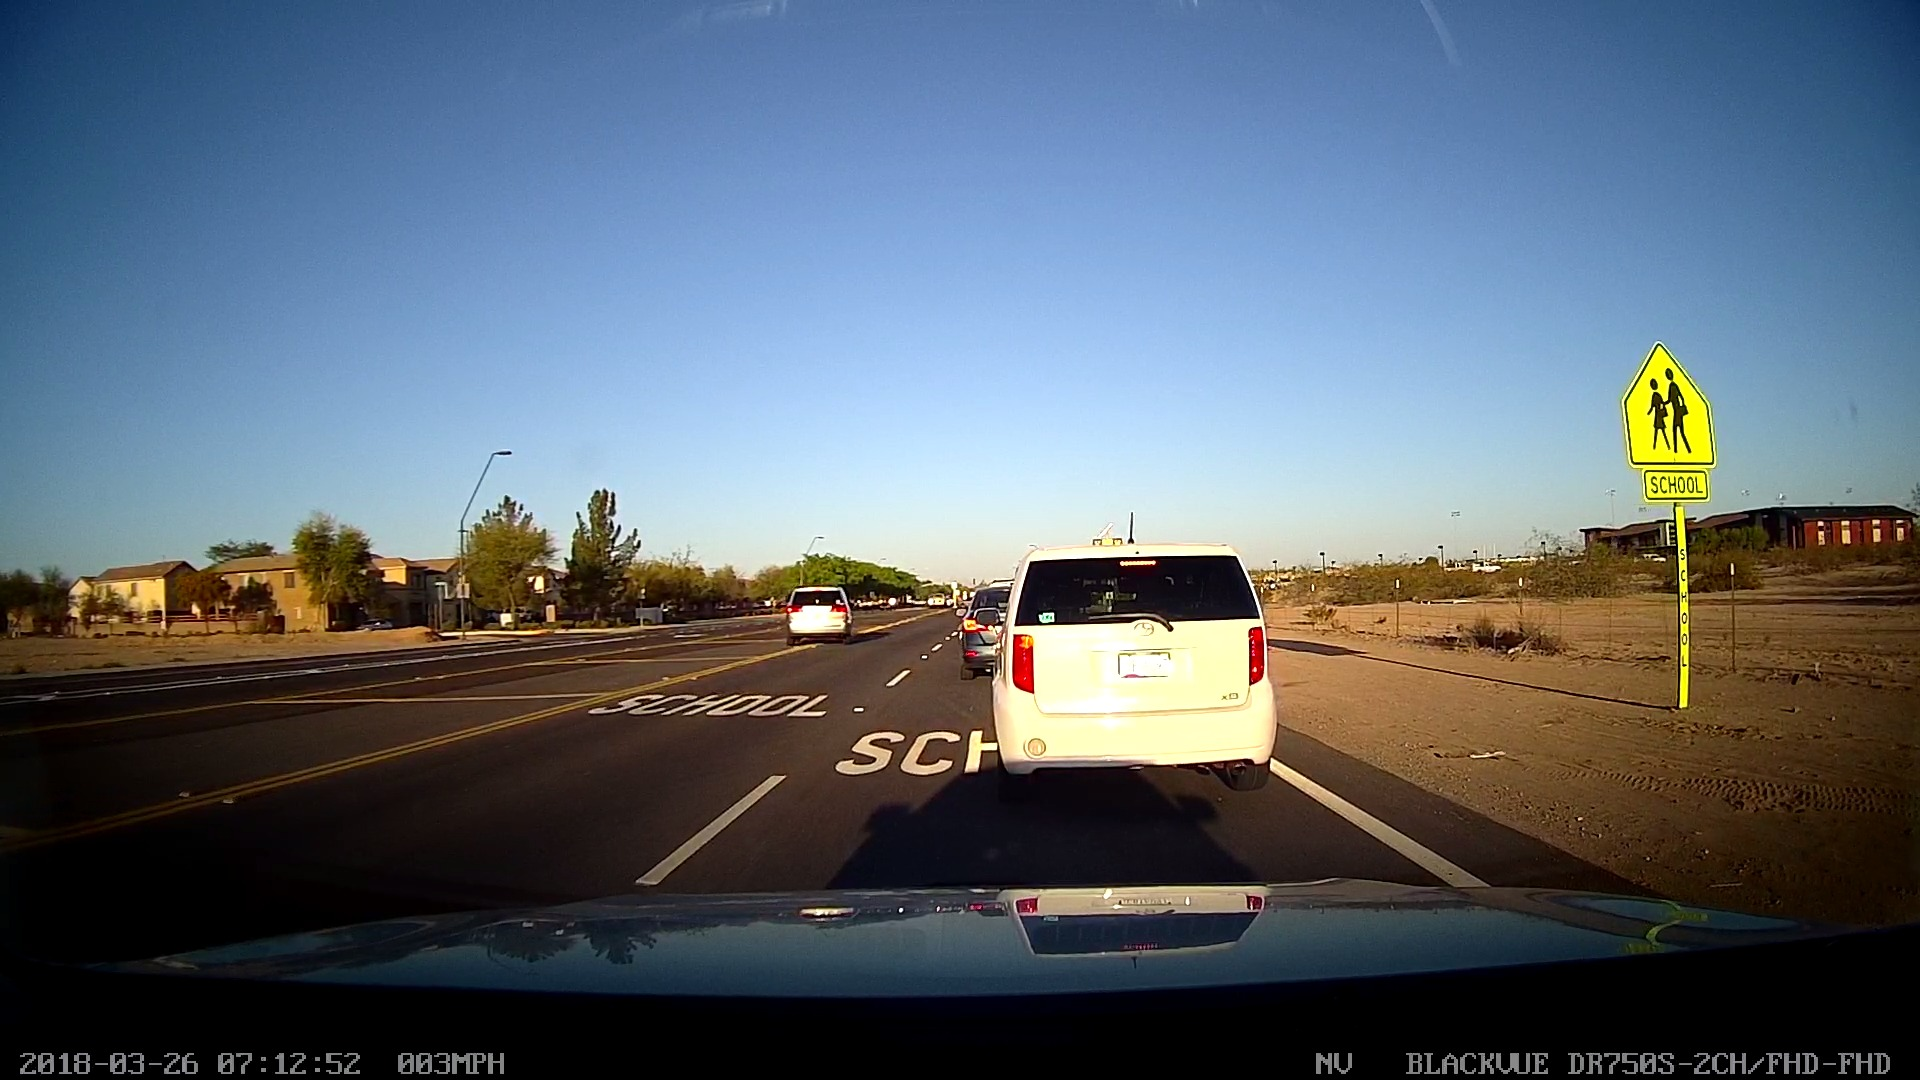plate: (1106, 642, 1183, 687)
vehicle: (980, 531, 1286, 799), (775, 570, 859, 651)
